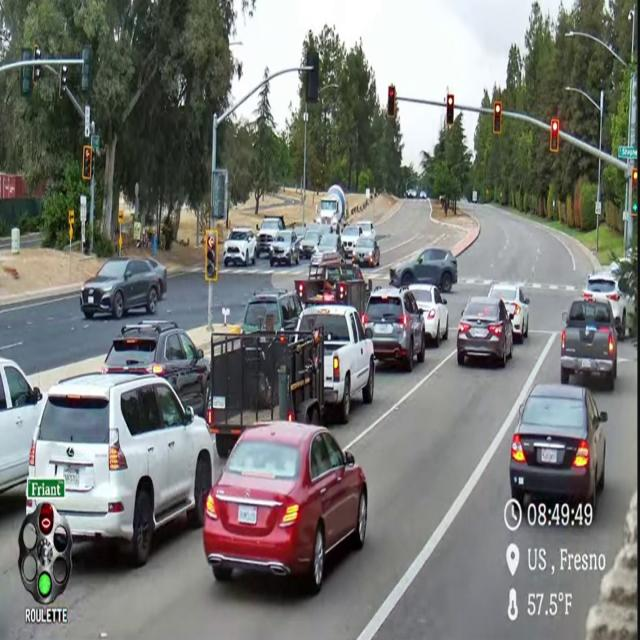car: (29, 374, 213, 566), (203, 422, 367, 593), (510, 384, 607, 519), (102, 321, 210, 415), (0, 358, 43, 493), (362, 288, 426, 371), (80, 258, 159, 319), (457, 297, 513, 367), (583, 272, 633, 340), (390, 248, 457, 293), (242, 290, 302, 333), (488, 283, 529, 343), (409, 285, 448, 346), (223, 227, 256, 266), (270, 230, 299, 267), (146, 258, 167, 299), (352, 236, 380, 266), (312, 233, 344, 259), (300, 226, 322, 258), (340, 225, 362, 254), (358, 221, 376, 238), (293, 225, 307, 239), (407, 189, 415, 198), (419, 191, 427, 199)
traffic signal: (204, 229, 218, 282), (306, 51, 319, 103), (81, 46, 91, 93), (82, 145, 92, 181), (21, 66, 32, 96), (387, 85, 396, 119), (493, 101, 502, 135), (550, 119, 559, 152), (59, 65, 67, 99), (446, 94, 454, 126), (632, 168, 637, 216), (33, 65, 41, 84)
truck: (206, 331, 324, 458), (297, 304, 374, 423), (561, 299, 617, 390), (294, 254, 372, 314), (317, 184, 347, 232), (256, 216, 285, 257)
